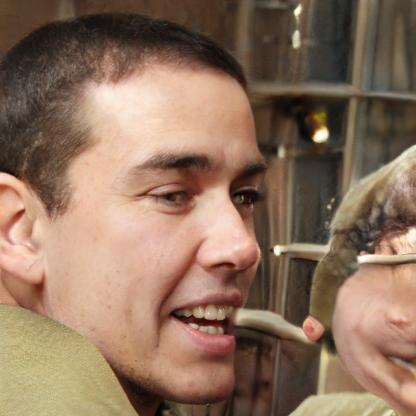eyeee: (132, 178, 200, 210), (229, 186, 266, 212)
mouthhz: (165, 288, 242, 357)
nosebb: (194, 192, 261, 274)
